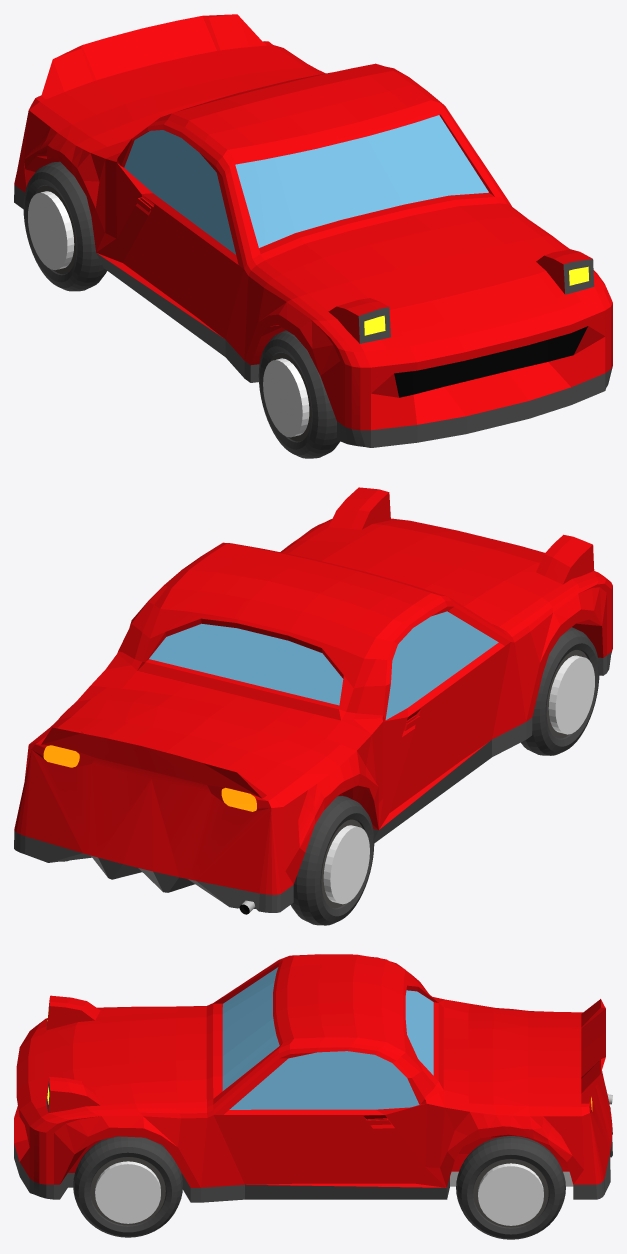
The model's file is car (1).fbx.
3 renders of one model, top to bottom at view 1: azimuth 30°, elevation 25°; view 2: azimuth 150°, elevation 25°; view 3: azimuth 270°, elevation 25°, orthographic. The views are drawn at different scales.
Parts seen in each view (by area): view 1: Cube, Torus.003, Torus.001, Cylinder.005, Cylinder.011; view 2: Cube, Torus.003, Torus.001, Cylinder.011, Cylinder.005; view 3: Cube, Torus.002, Torus, Cylinder.002, Cylinder.008, Cylinder.001, Cylinder.007.
Part boxes in pixels (x1,y1,x2,y2): Cube: [14, 14, 612, 447]; Torus.003: [23, 161, 106, 291]; Torus.001: [258, 330, 340, 458]; Cylinder.005: [263, 358, 309, 437]; Cylinder.011: [28, 191, 74, 270]; Cube: [14, 487, 612, 914]; Torus.003: [291, 796, 374, 925]; Torus.001: [521, 627, 599, 755]; Cylinder.011: [323, 825, 369, 904]; Cylinder.005: [548, 655, 594, 734]; Cube: [14, 954, 612, 1202]; Torus.002: [456, 1136, 565, 1239]; Torus: [73, 1136, 182, 1237]; Cylinder.002: [95, 1161, 160, 1223]; Cylinder.008: [478, 1163, 543, 1225]; Cylinder.001: [90, 1157, 165, 1225]; Cylinder.007: [473, 1159, 548, 1227].
Size of the model in its own units: 300 by 220 by 619.
